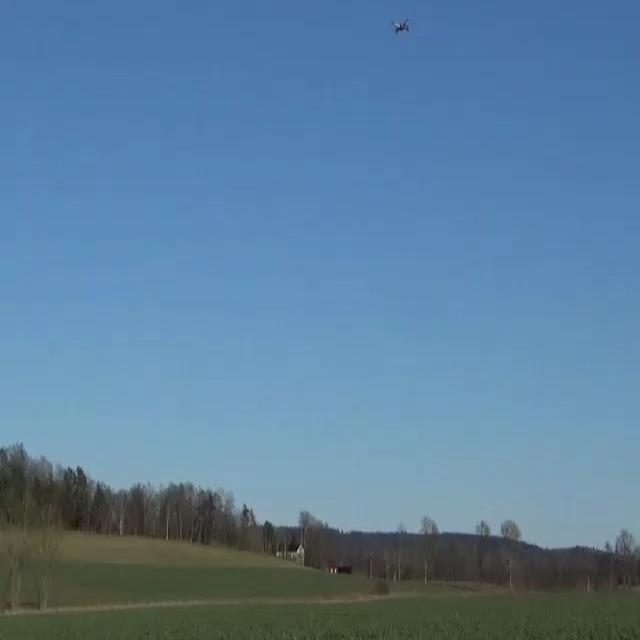drone: (389, 18, 412, 36)
